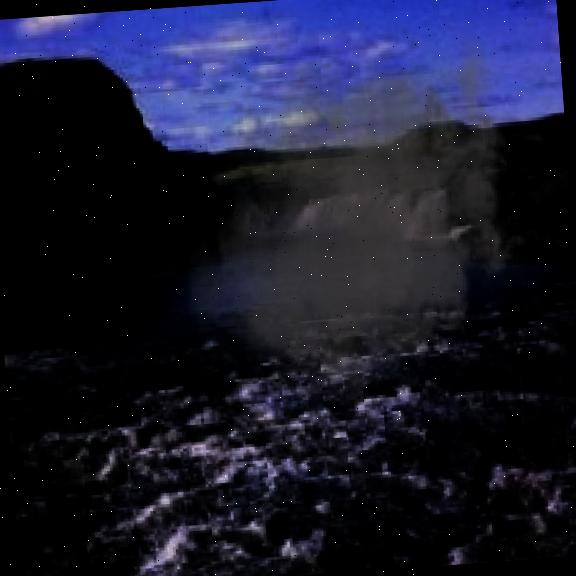smoke: (158, 24, 543, 423)
